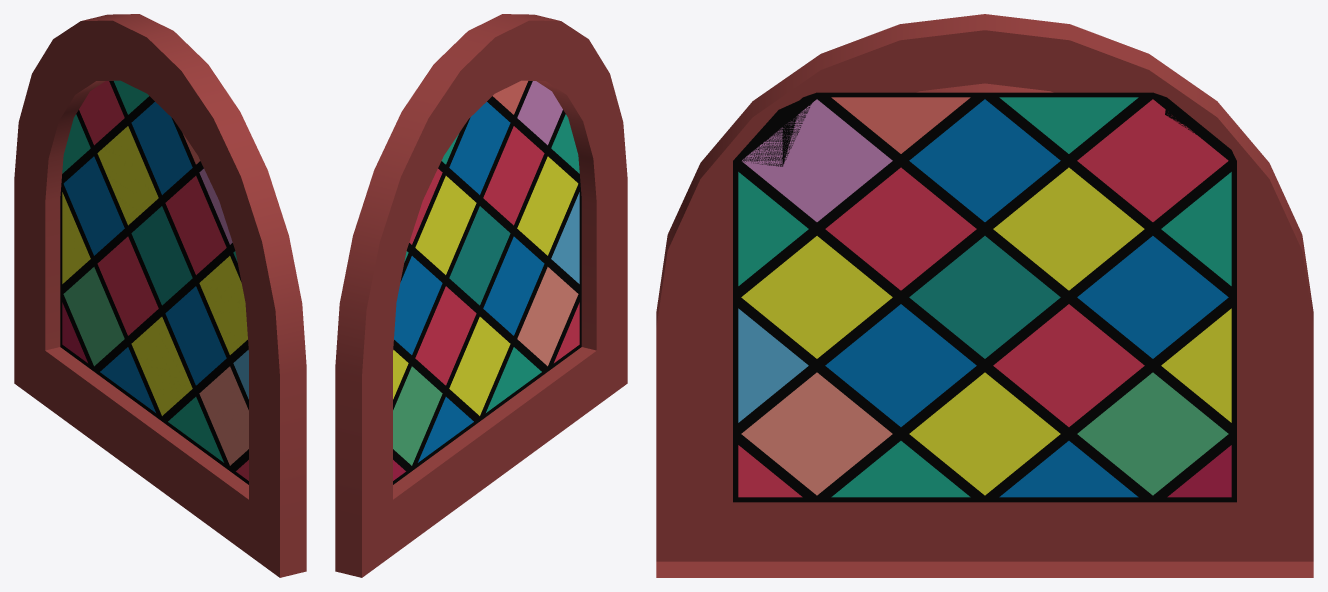
Rendered from window.fbx.
3 renders of one model, left to right at view 1: azimuth 30°, elevation 25°; view 2: azimuth 150°, elevation 25°; view 3: azimuth 270°, elevation 25°, orthographic. The views are drawn at different scales.
Visible parts, largest first — view 1: Window, Glass; view 2: Window, Glass; view 3: Glass, Window.
Part boxes in pixels (x1=…): Window: x1=14, y1=14, x2=306, y2=577; Glass: x1=60, y1=80, x2=248, y2=484; Window: x1=335, y1=14, x2=627, y2=577; Glass: x1=393, y1=80, x2=581, y2=484; Glass: x1=733, y1=92, x2=1236, y2=502; Window: x1=656, y1=14, x2=1313, y2=577.
Bounding box in the file's own units: 19.8 × 312 × 340.
